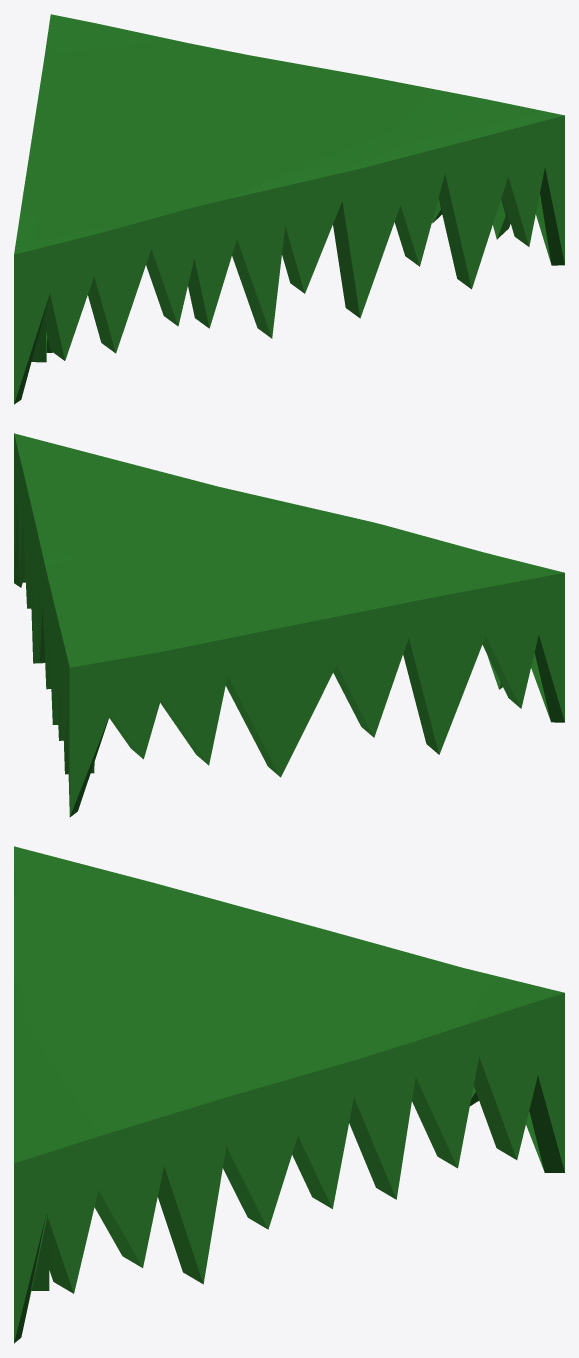
Rendered from grass_layer_triangle_mini.fbx.
3 views of the same model, one above another, from view 1: azimuth 30°, elevation 25°; view 2: azimuth 150°, elevation 25°; view 3: azimuth 270°, elevation 25° (orthographic). The views are drawn at different scales.
Parts seen in each view (by area): view 1: grass_layer_triangle_mini; view 2: grass_layer_triangle_mini; view 3: grass_layer_triangle_mini.
Boxes of the visible parts, bbox=[...] form: grass_layer_triangle_mini: bbox=[14, 14, 564, 404]; grass_layer_triangle_mini: bbox=[14, 433, 564, 817]; grass_layer_triangle_mini: bbox=[14, 846, 564, 1343].
Size of the model in its own units: 222 by 63.15 by 160.
